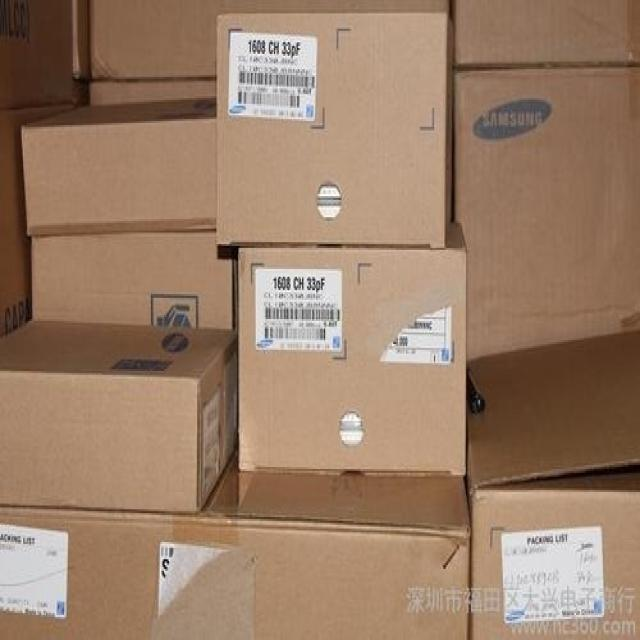box: (0, 443, 470, 637), (238, 221, 466, 476), (216, 13, 453, 247), (452, 67, 639, 359), (465, 331, 639, 638), (0, 321, 239, 510), (88, 1, 452, 78), (21, 99, 216, 237), (32, 231, 238, 330), (1, 104, 76, 338), (454, 0, 639, 67), (1, 1, 76, 111), (89, 75, 216, 103), (72, 1, 88, 79)
